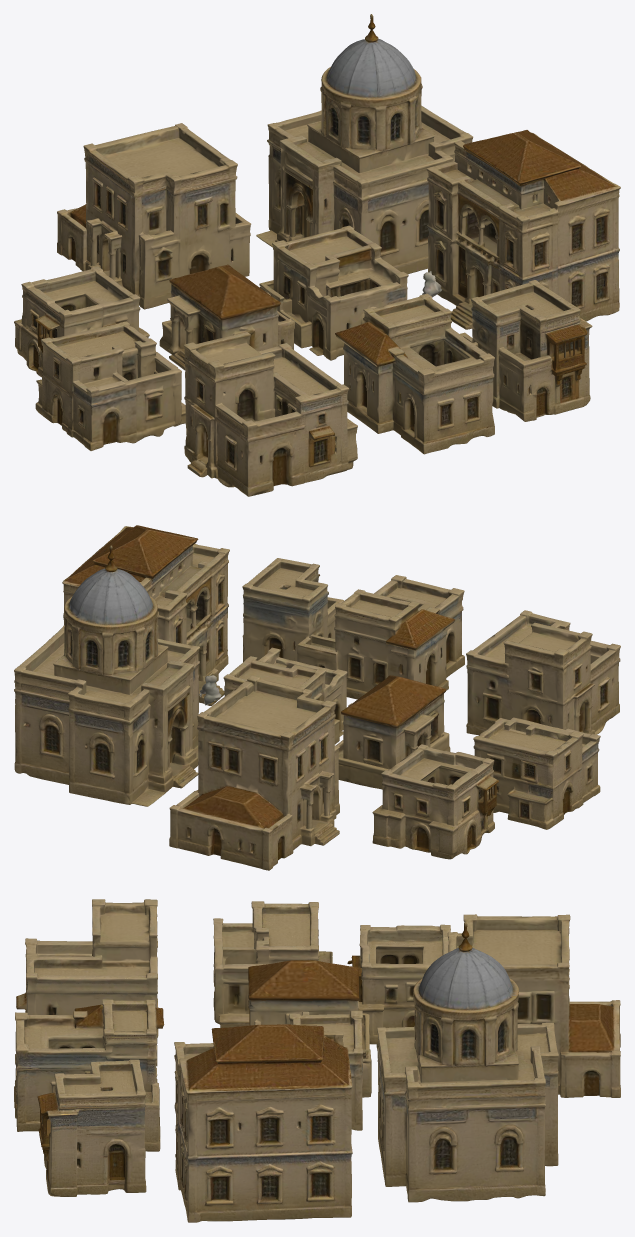
File: Enlightenment Village (Middle Eastern).fbx
3 renders of one model, top to bottom at view 1: azimuth 30°, elevation 25°; view 2: azimuth 150°, elevation 25°; view 3: azimuth 270°, elevation 25°, orthographic. The views are drawn at different scales.
Visible parts, largest first — view 1: tripo_node_397e602f; view 2: tripo_node_397e602f; view 3: tripo_node_397e602f.
Part boxes in pixels (box(x1,y1,x2,y2)): tripo_node_397e602f: box(14, 14, 620, 496); tripo_node_397e602f: box(14, 525, 620, 870); tripo_node_397e602f: box(14, 899, 620, 1222).
Bounding box in the file's own units: 1 × 0.4698 × 0.9617.
